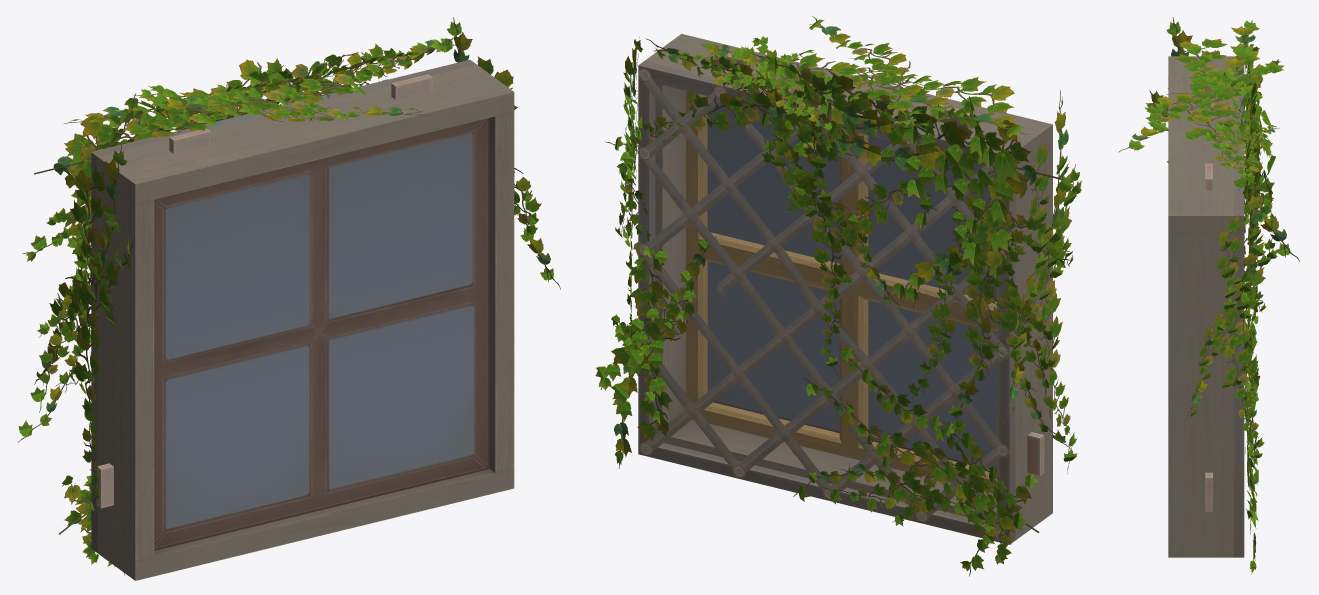
Rendered from P_Window_021_S1_M01.obj.
3 views of the same model, side by side, from view 1: azimuth 30°, elevation 25°; view 2: azimuth 150°, elevation 25°; view 3: azimuth 270°, elevation 25° (orthographic). The views are drawn at different scales.
Bounding box in the file's own units: 2.68 × 2.52 × 1.02.
19 materials, 19 textured.
